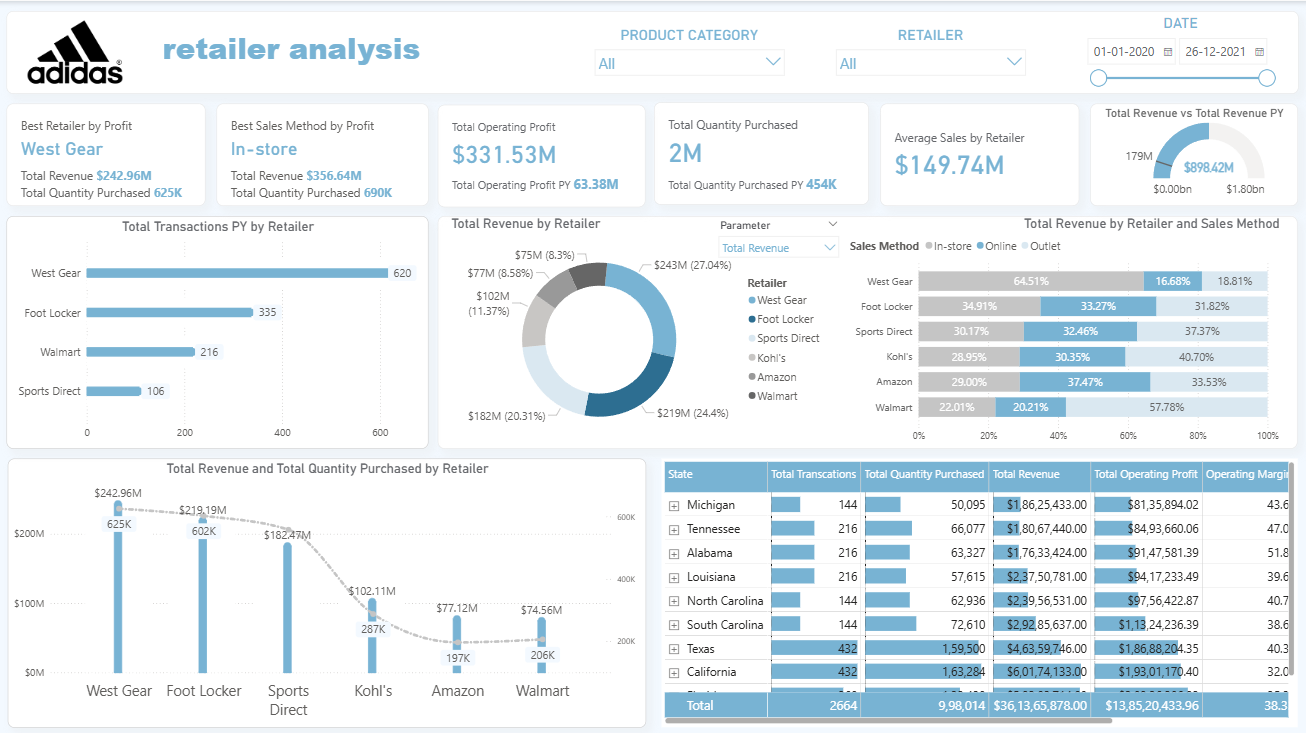

The dashboard page shown, as its layout file describes it:
{"tool":"powerbi","page":{"name":"Retailer Analysis","canvas":[1920,1080],"ordinal":4},"visuals":[{"type":"shape","box":[644.3,314.9,1261.8,341.7],"z":0},{"type":"lineStackedColumnComboChart","fields":{"Y":["Measures Table.Total Revenue"],"Y2":["Measures Table.Total Quantity Purchased"],"Category":["Adidas Sales Data.Retailer"]},"box":[12.3,672,936.5,395.2],"z":1000},{"type":"shape","box":[10.3,14.4,1895.7,121.4],"z":2000},{"type":"image","box":[26.8,24.7,168.8,102.9],"z":3000},{"type":"cardVisual","fields":{"Data":["Min(Adidas Sales Data.Retailer)"]},"box":[10.3,150.3,292.3,150.3],"z":4000},{"type":"cardVisual","fields":{"Data":["Measures Table.Average Sales by Retailer"]},"box":[1293.1,150.4,291.6,150.4],"z":5000},{"type":"gauge","title":"Total Revenue vs Total Revenue PY","fields":{"Y":["Measures Table.Total Revenue"],"TargetValue":["Measures Table.Total Revenue PY"]},"box":[1601.3,150.4,304.5,150.4],"z":6000},{"type":"textbox","box":[234.6,32.9,526.9,88.5],"z":7000},{"type":"slicer","title":"RETAILER","fields":{"Values":["Adidas Sales Data.Retailer"]},"box":[1218.5,37,298.5,82.3],"z":8000},{"type":"slicer","title":"PRODUCT CATEGORY","fields":{"Values":["Adidas Sales Data.Product Category"]},"box":[864.5,37,298.5,82.3],"z":9000},{"type":"slicer","title":"DATE","fields":{"Values":["DateTable.Date"]},"box":[1584.9,20.6,298.5,113.2],"z":10000},{"type":"slicer","fields":{"Values":["Parameter.Parameter"]},"box":[1045.6,314.9,197.6,72],"z":11000},{"type":"donutChart","fields":{"Y":["Measures Table.Total Revenue"],"Category":["Adidas Sales Data.Retailer"]},"box":[658.7,314.9,559.9,341.7],"z":12000},{"type":"cardVisual","fields":{"Data":["Measures Table.Total Quantity Purchased"]},"box":[961.2,148.2,314.9,150.3],"z":13000},{"type":"cardVisual","fields":{"Data":["Measures Table.Total Operating Profit"]},"box":[644.3,152.3,304.6,150.3],"z":14000},{"type":"hundredPercentStackedBarChart","fields":{"Y":["Measures Table.Total Revenue"],"Category":["Adidas Sales Data.Retailer"],"Series":["Adidas Sales Data.Sales Method"]},"box":[1243.2,314.9,640.1,341.7],"z":15000},{"type":"barChart","fields":{"Y":["Measures Table.Total Transactions PY"],"Category":["Adidas Sales Data.Retailer"]},"box":[10.3,314.9,619,341.7],"z":16000},{"type":"pivotTable","title":"Top 10 States by Measures ","fields":{"Rows":["Adidas Sales Data.State","Adidas Sales Data.Retailer","Adidas Sales Data.Sales Method"],"Values":["Measures Table.Total Transcations","Measures Table.Total Quantity Purchased","Measures Table.Total Revenue","Measures Table.Total Operating Profit","Measures Table.Operating Margin %","SparklineData(Measures Table.Total Operating Profit_[DateTable.Year Month])"]},"box":[972.2,671.3,933.6,394.4],"z":17000},{"type":"cardVisual","fields":{"Data":["Min(Adidas Sales Data.Sales Method)"]},"box":[319,150.3,310.8,150.3],"z":18000}]}

Visuals, with their boxes in screenshot pixels (x1, y1, x2, y2), scaled from the page's 1920x1080 canvas onto the 1306x733 screenshot:
shape: [438,214,1297,446]
lineStackedColumnComboChart - Measures Table.Total Revenue x Measures Table.Total Quantity Purchased: [8,456,645,724]
shape: [7,10,1296,92]
image: [18,17,133,87]
cardVisual - Min(Adidas Sales Data.Retailer): [7,102,206,204]
cardVisual - Measures Table.Average Sales by Retailer: [880,102,1078,204]
"Total Revenue vs Total Revenue PY" gauge: [1089,102,1296,204]
textbox: [160,22,518,82]
"RETAILER" slicer: [829,25,1032,81]
"PRODUCT CATEGORY" slicer: [588,25,791,81]
"DATE" slicer: [1078,14,1281,91]
slicer - Parameter.Parameter: [711,214,846,263]
donutChart - Measures Table.Total Revenue x Adidas Sales Data.Retailer: [448,214,829,446]
cardVisual - Measures Table.Total Quantity Purchased: [654,101,868,203]
cardVisual - Measures Table.Total Operating Profit: [438,103,645,205]
hundredPercentStackedBarChart - Measures Table.Total Revenue x Adidas Sales Data.Retailer: [846,214,1281,446]
barChart - Measures Table.Total Transactions PY x Adidas Sales Data.Retailer: [7,214,428,446]
"Top 10 States by Measures " pivotTable: [661,456,1296,723]
cardVisual - Min(Adidas Sales Data.Sales Method): [217,102,428,204]
